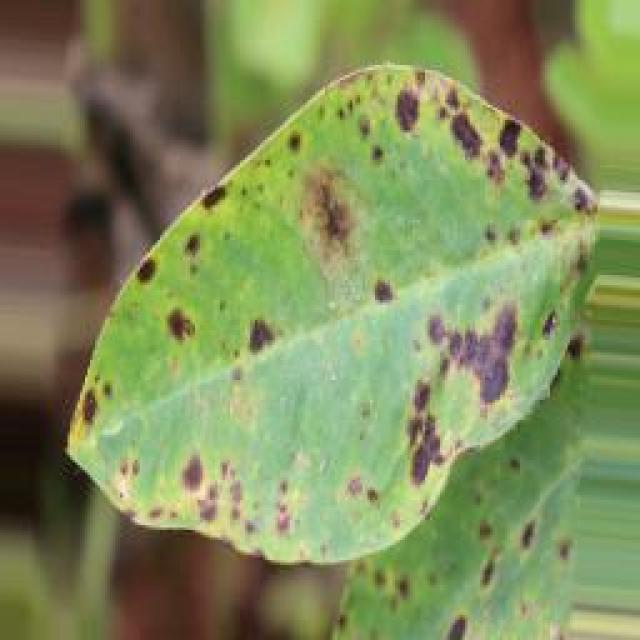Yellowish: (54, 49, 596, 640)
